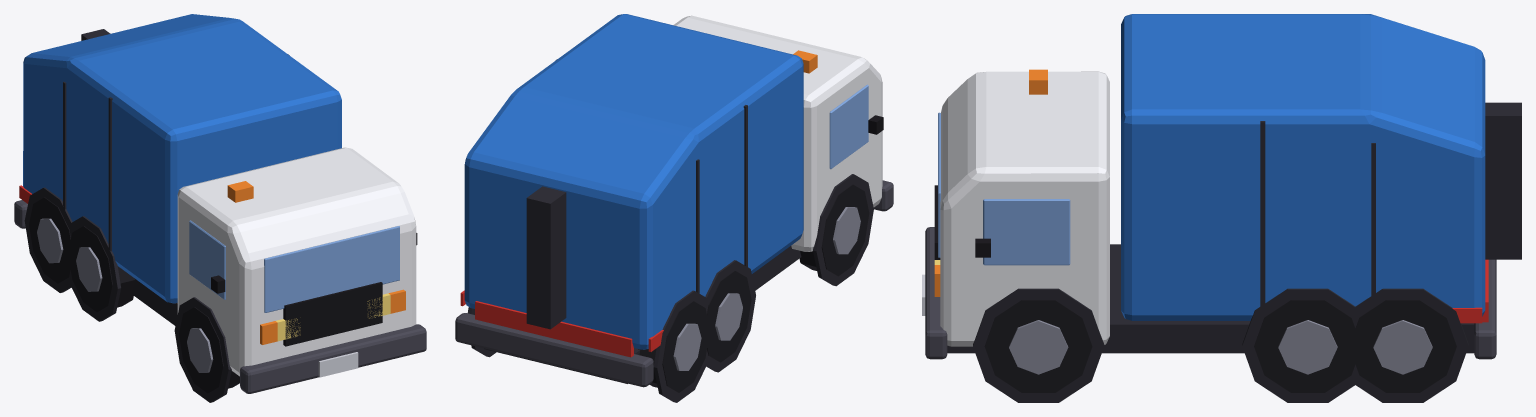
Rendered from recycling-truck.glb.
3 renders of one model, left to right at view 1: azimuth 30°, elevation 25°; view 2: azimuth 150°, elevation 25°; view 3: azimuth 270°, elevation 25°, orthographic. The views are drawn at different scales.
Parts seen in each view (by area): view 1: RecyclingTruck; view 2: RecyclingTruck; view 3: RecyclingTruck.
Part boxes in pixels (x1,y1,x2,y2): RecyclingTruck: (14,14,426,402); RecyclingTruck: (455,14,893,402); RecyclingTruck: (922,14,1521,402).
Size of the model in its own units: 1.77 by 2 by 3.79.
Materials: 1 (1 with a texture image).
